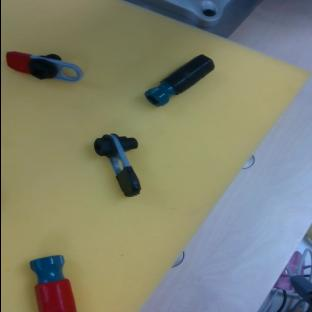part_1_bad: (93, 132, 141, 199)
part_1_good: (4, 51, 84, 83)
part_2_bad: (142, 50, 218, 111)
part_2_good: (27, 253, 76, 312)
